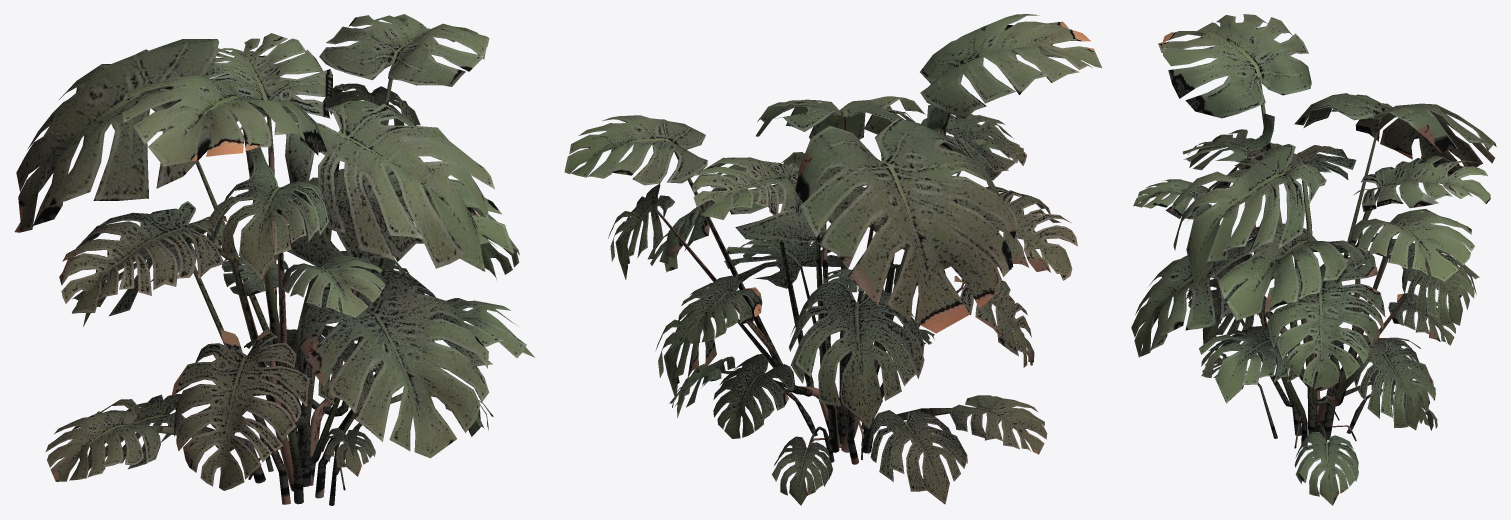
The model's file is plantleaves_r.glb.
3 renders of one model, left to right at view 1: azimuth 30°, elevation 25°; view 2: azimuth 150°, elevation 25°; view 3: azimuth 270°, elevation 25°, orthographic. The views are drawn at different scales.
Visible parts, largest first — view 1: plant.leaves_R.029, plant.leaves_R.036, plant.leaves_R.028, plant.leaves_R.026, plant.leaves_R.024, plant.leaves_R.030, plant.leaves_R.027, plant.leaves_R.039, plant.leaves_R.025, plant.leaves_R.032, plant.leaves_R.035, plant.leaves_R.031 (+5 smaller); view 2: plant.leaves_R.026, plant.leaves_R.031, plant.leaves_R.024, plant.leaves_R.039, plant.leaves_R.027, plant.leaves_R.029, plant.leaves_R.025, plant.leaves_R.030, plant.leaves_R.040, plant.leaves_R.028, plant.leaves_R.032, plant.leaves_R.045 (+6 smaller); view 3: plant.leaves_R.024, plant.leaves_R.028, plant.leaves_R.034, plant.leaves_R.032, plant.leaves_R.026, plant.leaves_R.027, plant.leaves_R.036, plant.leaves_R.025, plant.leaves_R.037, plant.leaves_R.035, plant.leaves_R.029, plant.leaves_R.042 (+8 smaller).
Part boxes in pixels (x1,y1,x2,y2): plant.leaves_R.029: (171,147,385,504); plant.leaves_R.036: (297,270,489,468); plant.leaves_R.028: (285,100,494,427); plant.leaves_R.026: (14,39,301,415); plant.leaves_R.024: (122,75,326,486); plant.leaves_R.030: (59,201,293,491); plant.leaves_R.027: (310,14,489,485); plant.leaves_R.039: (45,394,265,483); plant.leaves_R.025: (202,33,332,443); plant.leaves_R.032: (287,165,513,370); plant.leaves_R.035: (315,298,534,498); plant.leaves_R.031: (72,222,290,504); plant.leaves_R.026: (795,118,1018,364); plant.leaves_R.031: (788,281,924,464); plant.leaves_R.024: (839,14,1101,444); plant.leaves_R.039: (863,395,1047,504); plant.leaves_R.027: (564,115,841,446); plant.leaves_R.029: (861,105,1034,445); plant.leaves_R.025: (692,157,839,452); plant.leaves_R.030: (841,186,1077,452); plant.leaves_R.040: (713,353,812,438); plant.leaves_R.028: (755,96,925,392); plant.leaves_R.032: (710,152,885,350); plant.leaves_R.045: (678,275,762,343); plant.leaves_R.024: (1158,14,1317,434); plant.leaves_R.028: (1170,144,1326,392); plant.leaves_R.034: (1264,256,1385,405); plant.leaves_R.032: (1211,223,1375,388); plant.leaves_R.026: (1294,93,1496,380); plant.leaves_R.027: (1314,208,1474,433); plant.leaves_R.036: (1131,247,1294,407); plant.leaves_R.025: (1322,155,1490,440); plant.leaves_R.037: (1335,339,1435,430); plant.leaves_R.035: (1199,326,1307,447); plant.leaves_R.029: (1133,114,1301,435); plant.leaves_R.042: (1294,420,1358,505).
Size of the model in its own units: 1 by 0.9391 by 0.8572.
1 material, 1 textured.
